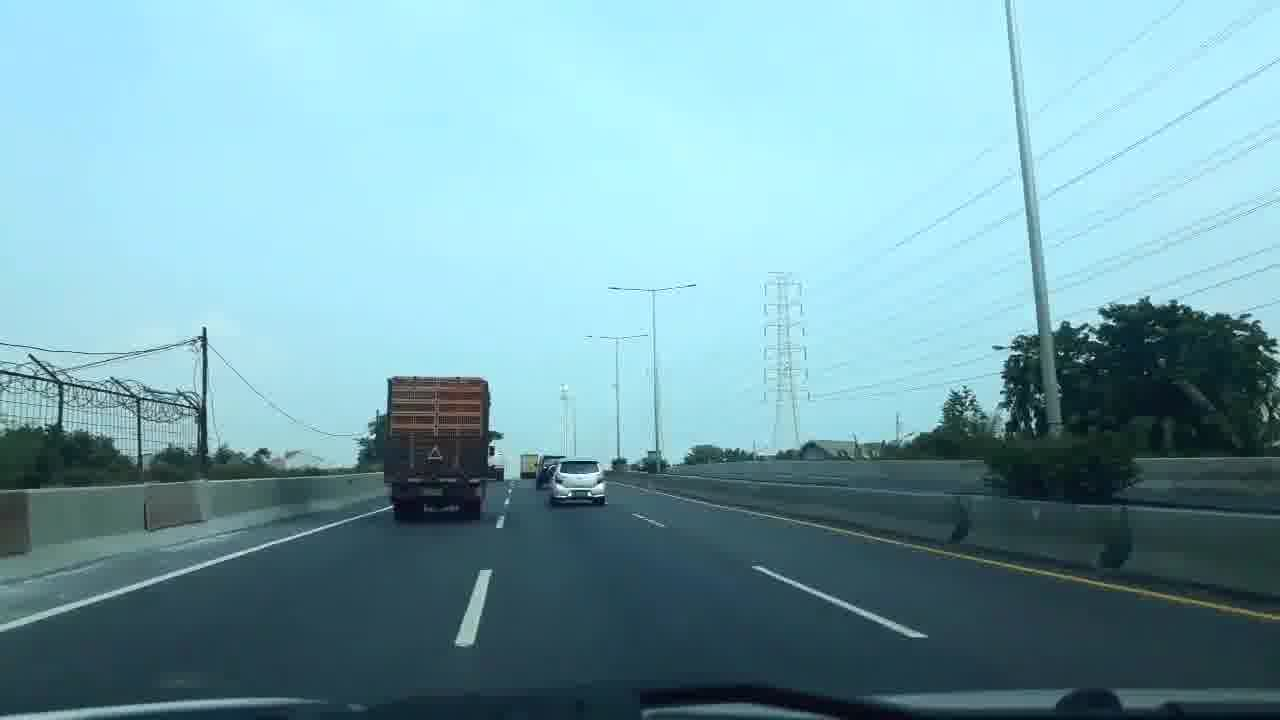plate_positive: (418, 487, 444, 496), (571, 491, 588, 497)
